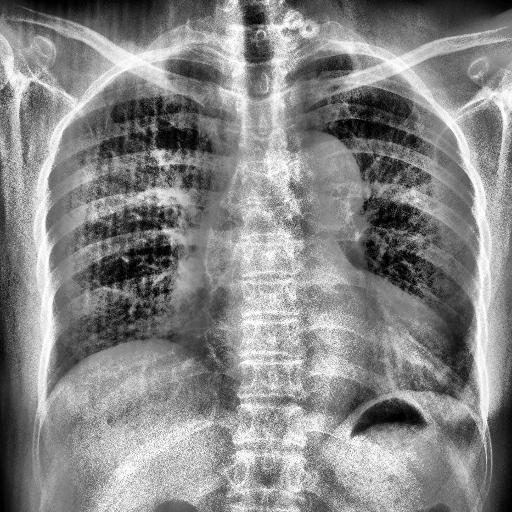0- Aortic enlargement: (206, 116, 376, 260), (196, 119, 374, 218), (262, 121, 368, 242)
3- Cardiomegaly: (175, 264, 460, 434)
7- Lung Opacity: (399, 333, 482, 427)
